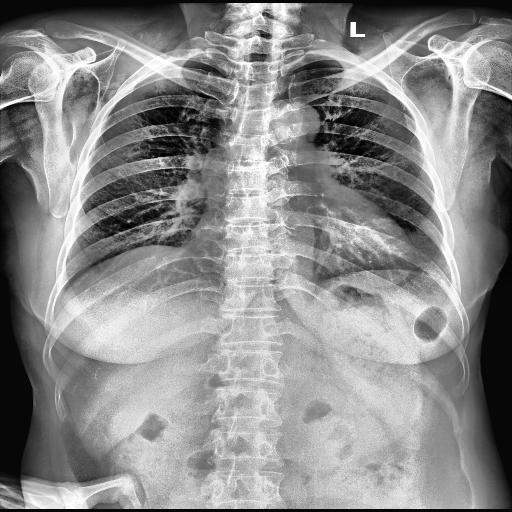0- Aortic enlargement: (262, 103, 320, 150), (262, 96, 322, 137), (265, 100, 320, 138)
3- Cardiomegaly: (181, 215, 413, 289), (184, 206, 414, 272), (188, 208, 416, 270)
